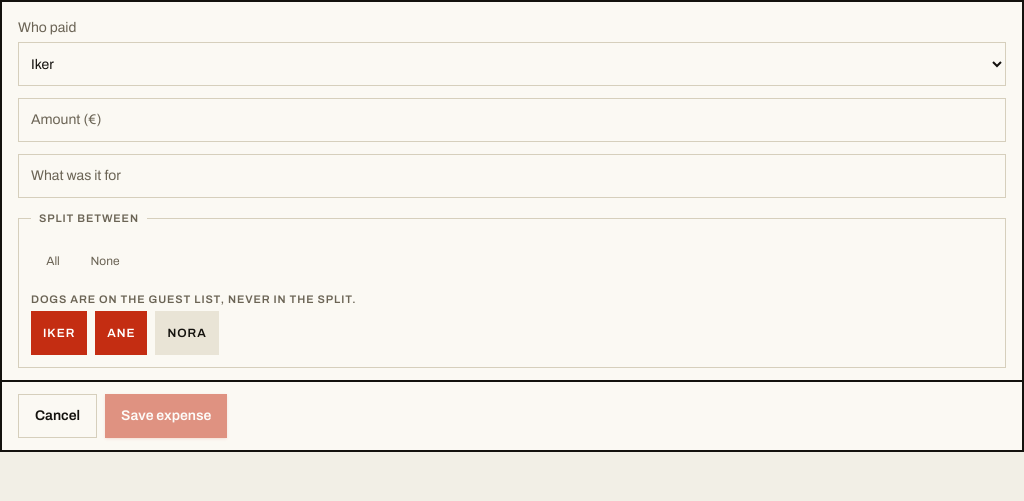
Test case: ExpenseForm › refuses an amount that is not positive and saves nothing
Type "0" into the field with placeholder "Amount (€)".
click(512, 120); type("0")  # box [18,98,1006,142]
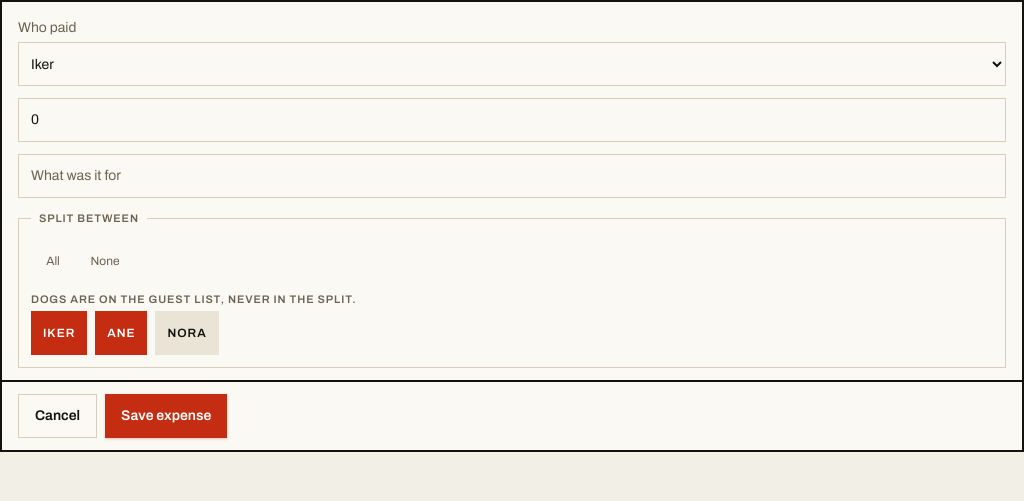
Type "Dinner" into the field with placeholder "What was it for".
click(512, 176); type("Dinner")  # box [18,154,1006,198]
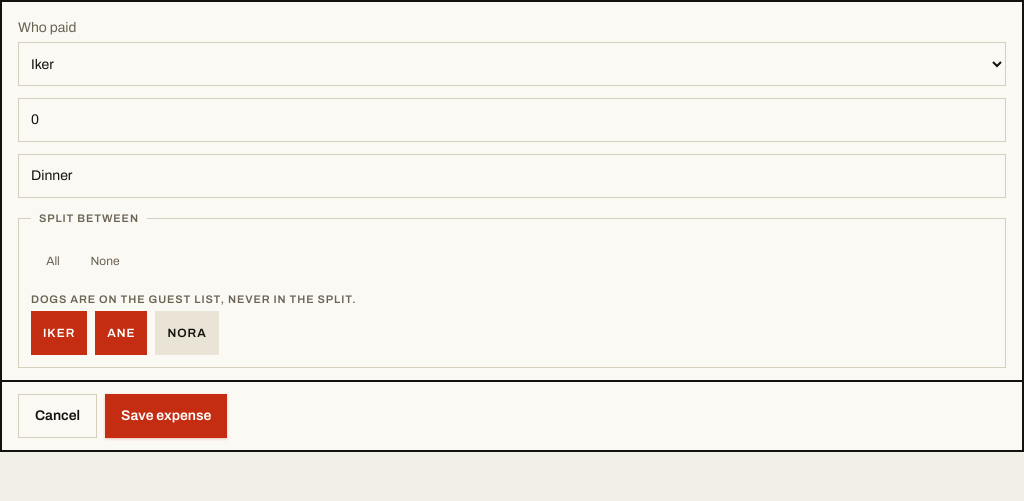
Submit the form with placeholder "amount"
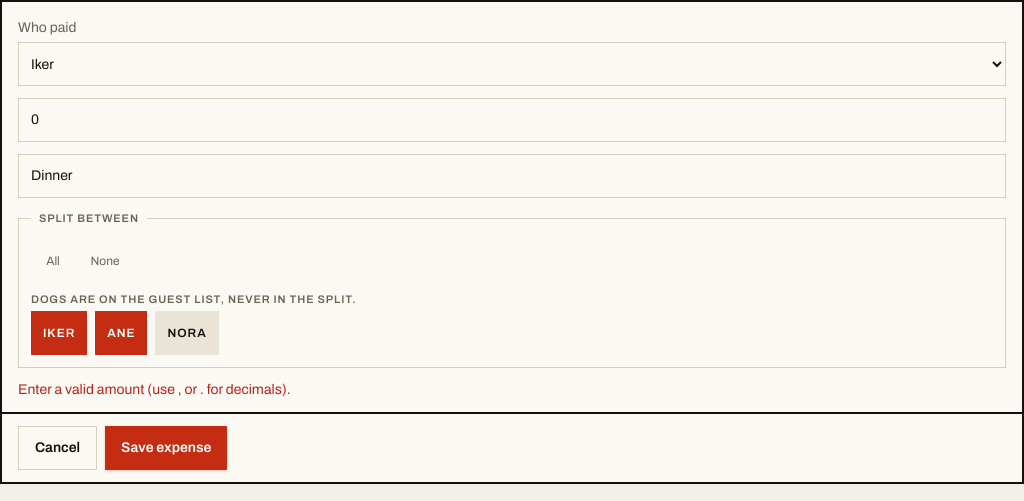
expect the text "Enter a valid amount (use , or . for decimals)." is shown: met, box [18,382,291,397]
